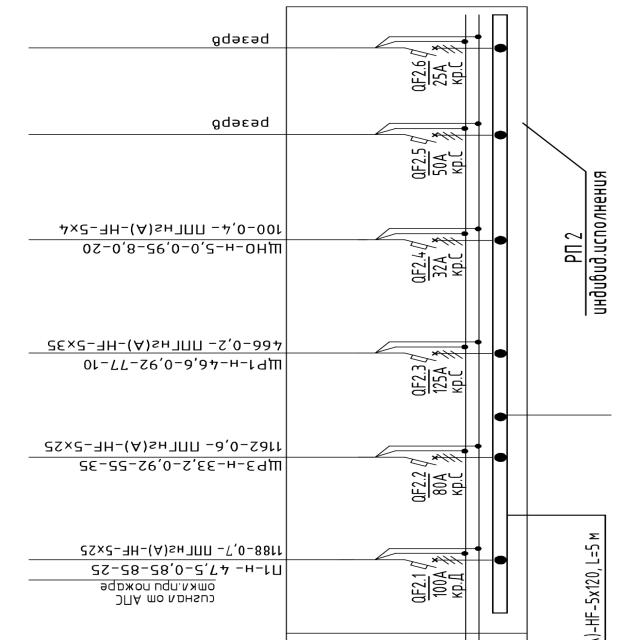-: (430, 144, 465, 182), (432, 570, 466, 606), (432, 468, 464, 504), (431, 250, 463, 286), (430, 59, 464, 92), (431, 366, 465, 398), (561, 228, 585, 265)
QF: (402, 234, 465, 251), (402, 129, 464, 146), (403, 42, 463, 59), (401, 347, 463, 363), (405, 451, 463, 468), (403, 554, 462, 570)
